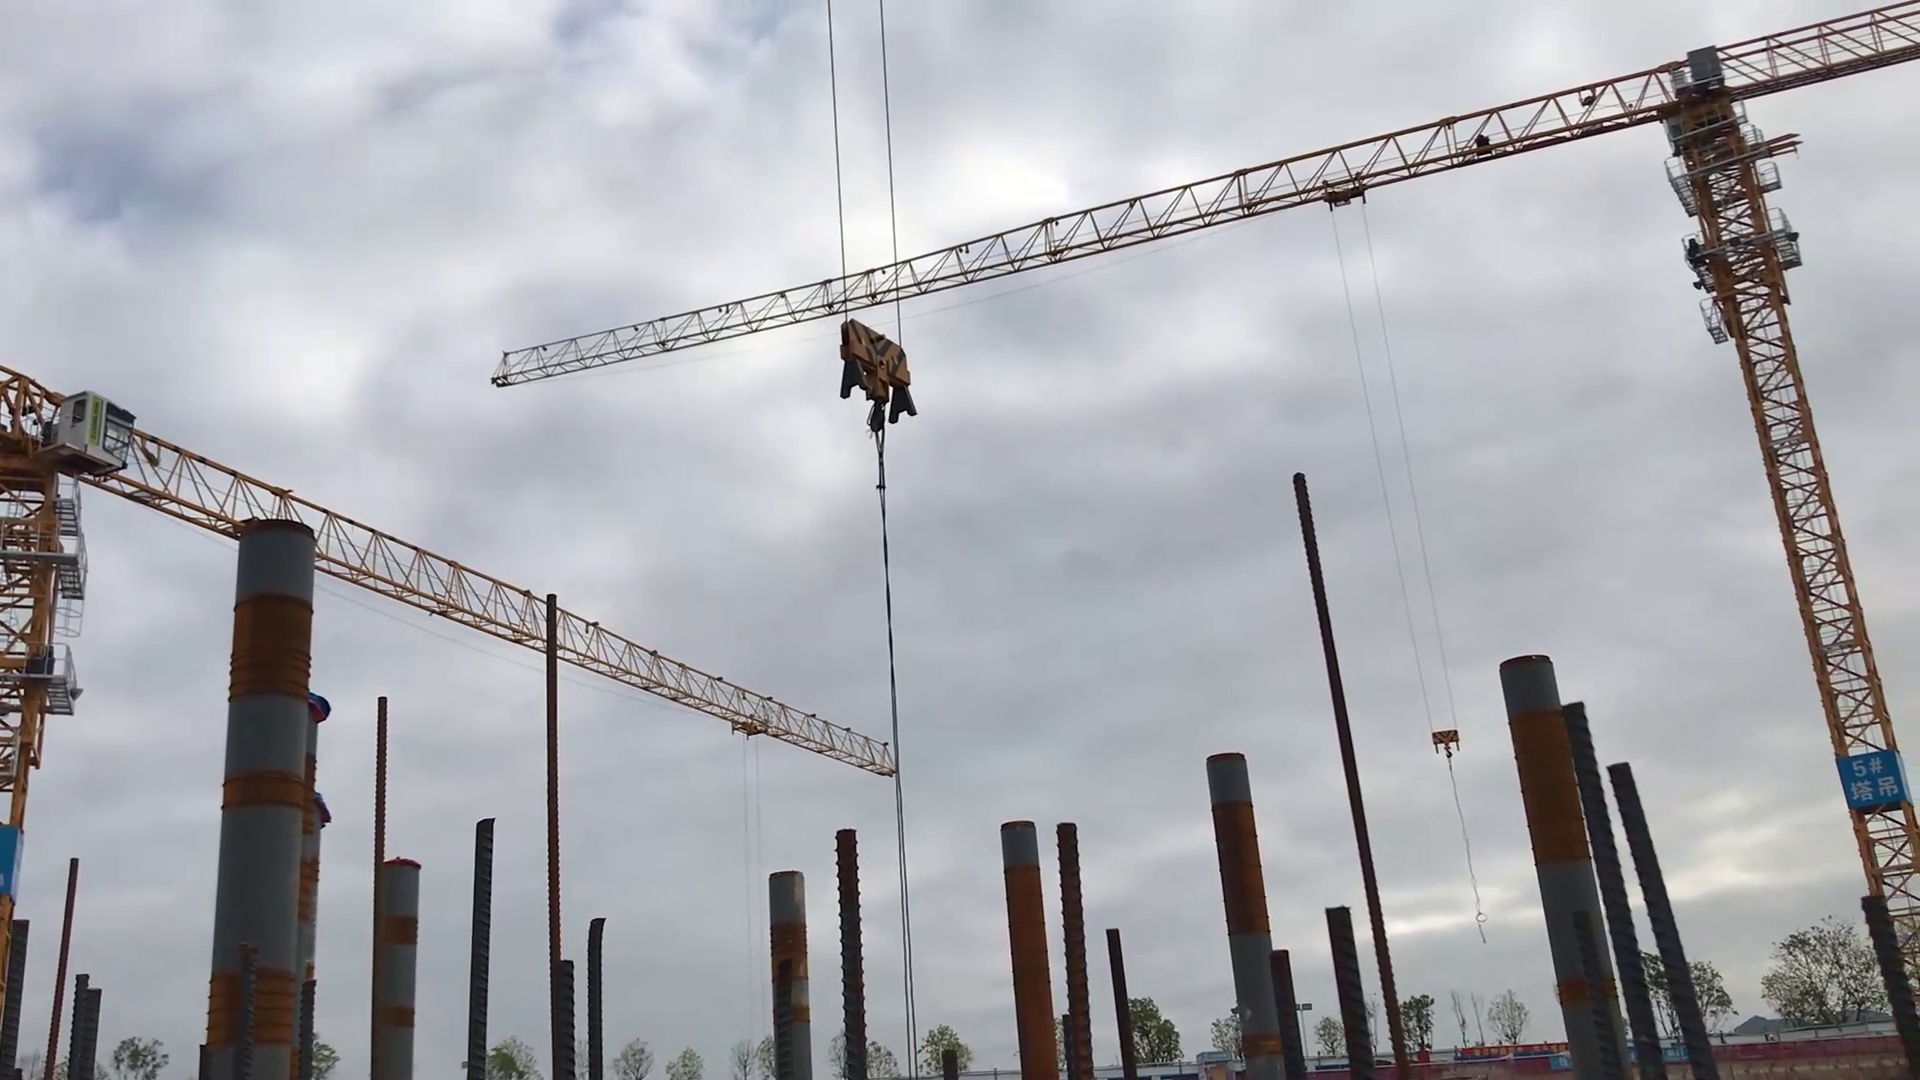fence: (1722, 1022, 1894, 1077)
hook: (835, 309, 939, 443), (1427, 727, 1466, 762)
slogan: (1836, 738, 1915, 816)
